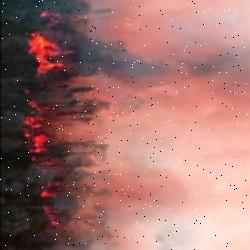fire: (17, 29, 78, 236)
